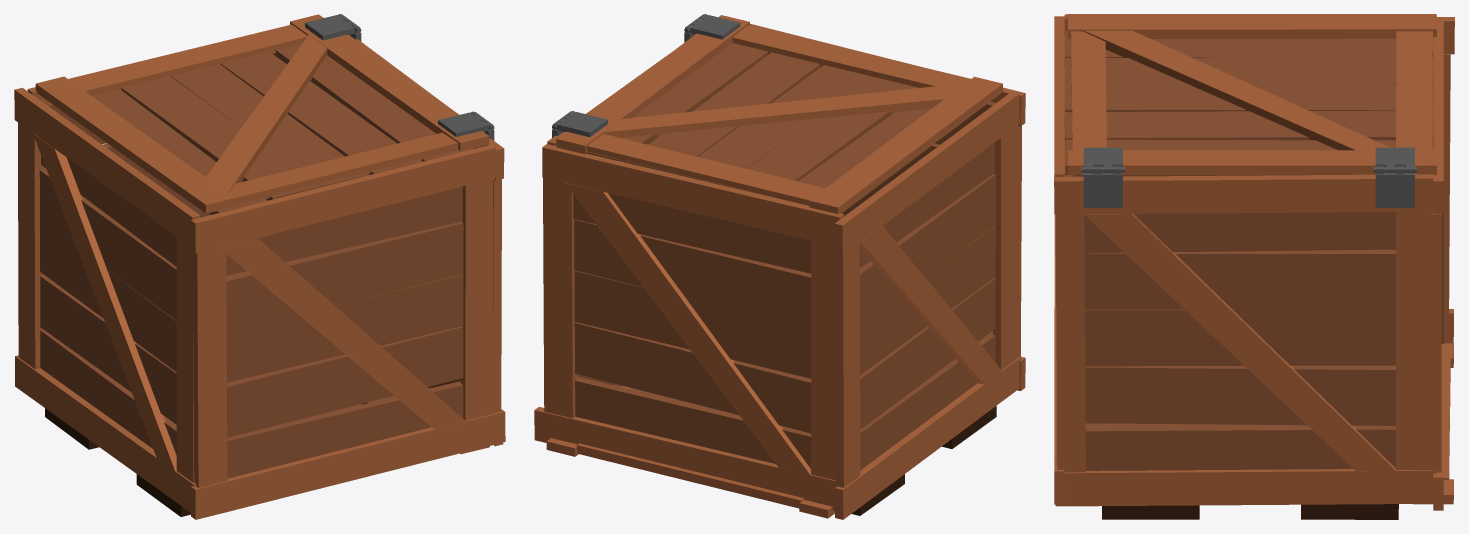
File: crate3.fbx
3 renders of one model, left to right at view 1: azimuth 30°, elevation 25°; view 2: azimuth 150°, elevation 25°; view 3: azimuth 270°, elevation 25°, orthographic. The views are drawn at different scales.
Parts seen in each view (by area): view 1: Plank.044, Plank.042, Plank.033, Plank.045, Plank.032, Plank.035, Plank.041, Plank.034, Plank.031, Plank.040, Plank.038, Plank.043 (+23 smaller); view 2: Plank.047, Plank.049, Plank.023, Plank.050, Plank.025, Plank.022, Plank.046, Plank.024, Plank.038, Plank.005, Plank.048, Plank.037 (+24 smaller); view 3: Plank.055, Plank.057, Plank.058, Plank.027, Plank.030, Plank.028, Plank.054, Plank.056, Plank.026, Plank.003, Plank.029, Plank.005 (+24 smaller).
Boxes of the visible parts, x1,y1,x2,y2 form: Plank.044: (226, 221, 463, 332); Plank.042: (227, 326, 463, 437); Plank.033: (191, 144, 495, 253); Plank.045: (226, 274, 463, 382); Plank.032: (191, 409, 505, 519); Plank.035: (220, 238, 465, 429); Plank.041: (227, 381, 463, 478); Plank.034: (192, 247, 227, 487); Plank.031: (460, 178, 494, 420); Plank.040: (33, 133, 176, 471); Plank.038: (14, 87, 200, 246); Plank.043: (226, 186, 462, 275); Plank.047: (574, 322, 811, 433); Plank.049: (574, 219, 811, 327); Plank.023: (542, 144, 844, 246); Plank.050: (574, 270, 811, 378); Plank.025: (565, 183, 811, 475); Plank.022: (534, 407, 835, 510); Plank.046: (575, 377, 811, 468); Plank.024: (543, 177, 577, 418); Plank.038: (834, 92, 1019, 255); Plank.005: (603, 83, 964, 137); Plank.048: (573, 193, 811, 273); Plank.037: (835, 357, 1020, 519); Plank.055: (1085, 365, 1395, 425); Plank.057: (1084, 249, 1396, 309); Plank.058: (1085, 309, 1396, 366); Plank.027: (1055, 469, 1436, 506); Plank.030: (1084, 214, 1396, 471); Plank.028: (1054, 174, 1433, 214); Plank.054: (1085, 425, 1395, 470); Plank.056: (1084, 212, 1396, 253); Plank.026: (1396, 211, 1432, 469); Plank.003: (1067, 14, 1436, 38); Plank.029: (1055, 214, 1085, 472); Plank.005: (1084, 30, 1389, 150).
Bounding box in the file's own units: 173 × 170 × 173.
